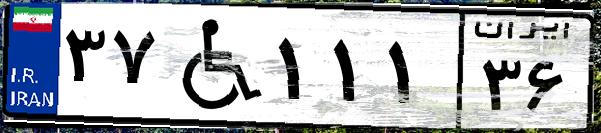1: (270, 28, 330, 110), (385, 28, 445, 110), (330, 28, 385, 110)
3: (57, 26, 110, 100), (475, 38, 525, 113)
6: (525, 38, 570, 115)
7: (110, 28, 158, 98)
ژ (معلولین و جانبازان): (158, 12, 270, 120)
